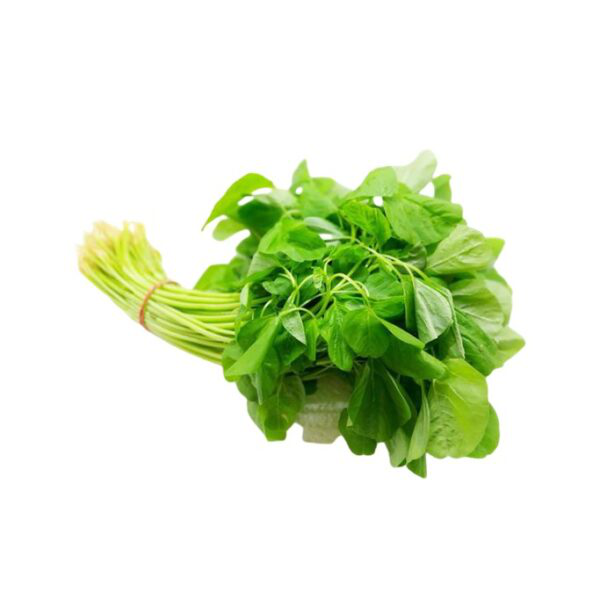Bayam: (54, 126, 545, 524)
